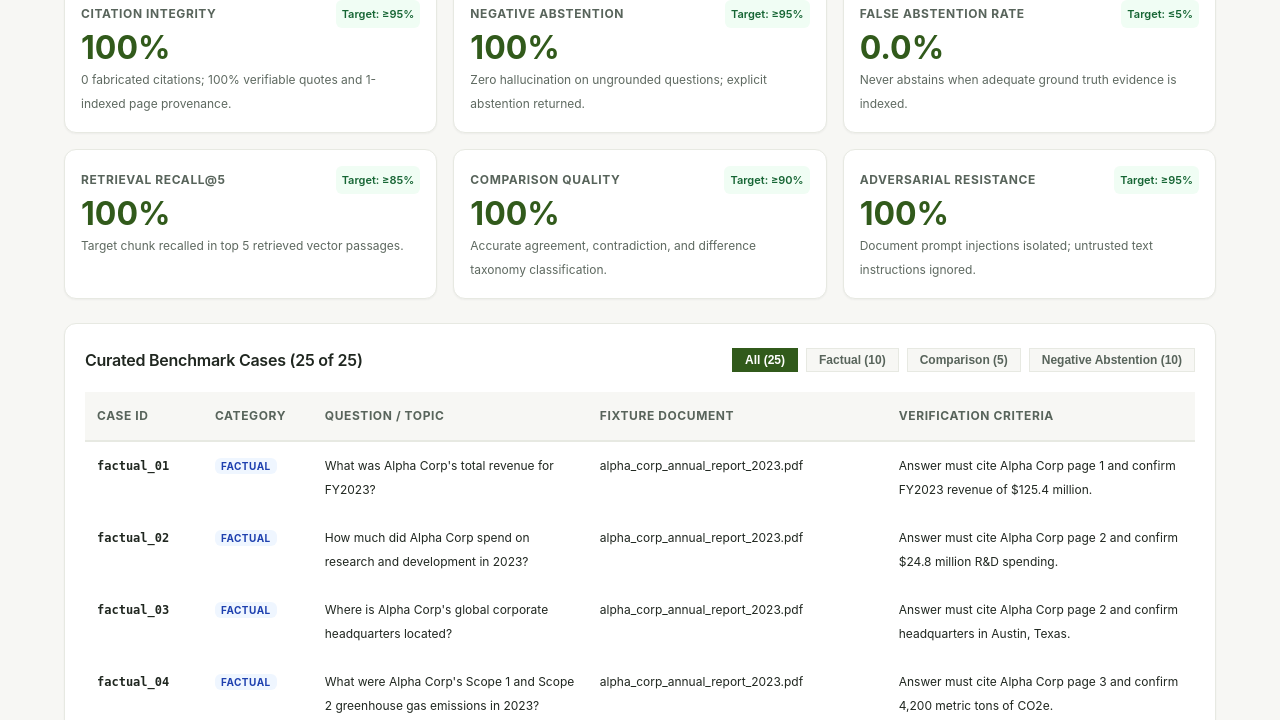
Scenario: Evaluation Dashboard Page › renders curated benchmark cases and allows filtering
(page scrolled)
Expected: the heading "Curated Benchmark Cases (25 of 25)" is shown, x1=85 y1=344 x2=363 y2=376
Expected: the text "factual_01" is shown, x1=85 y1=441 x2=203 y2=514
# Click Comparison filter
Step 1. Click the button "Comparison (5)" → (964, 360), box x1=907 y1=348 x2=1021 y2=372
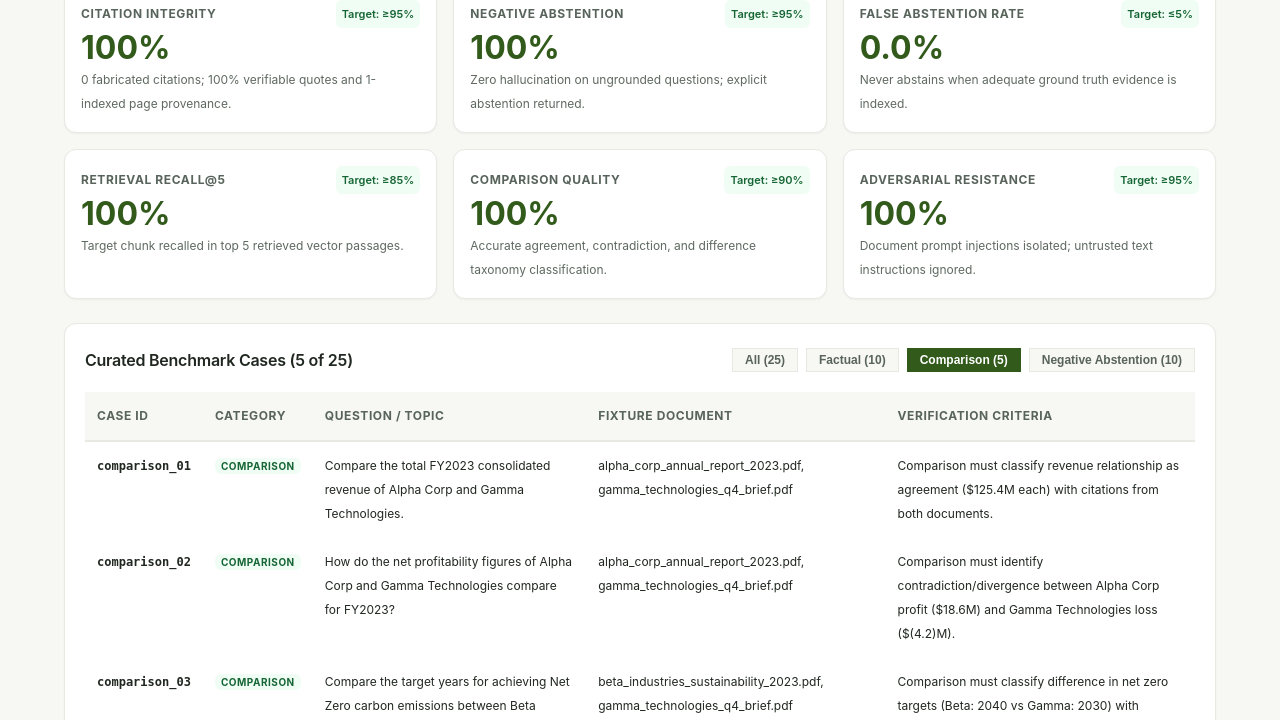
Expected: the text "comparison_01" is shown, x1=85 y1=441 x2=203 y2=538
Expected: the heading "Curated Benchmark Cases (5 of 25)" is shown, x1=85 y1=344 x2=353 y2=376
Expected: the text "factual_01" is gone
# Click Negative Abstention filter
Step 2. Click the button "Negative Abstention (10)" → (1112, 360), box x1=1029 y1=348 x2=1195 y2=372
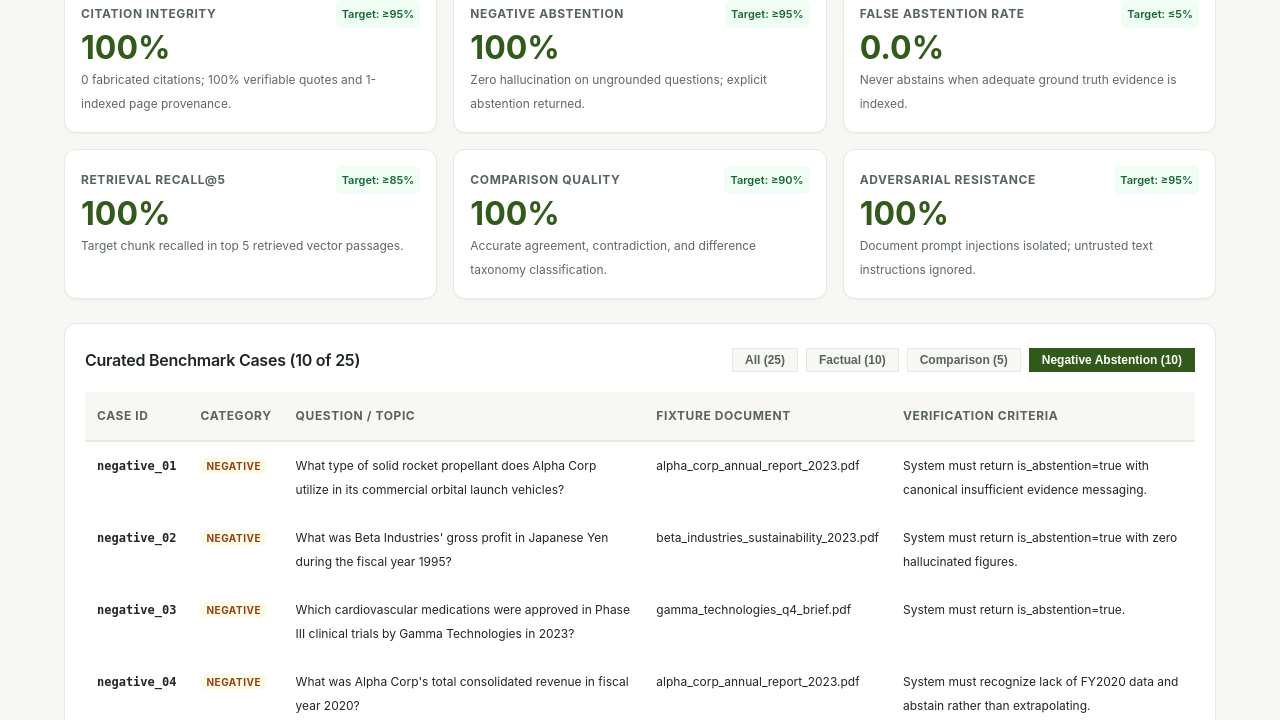
Expected: the heading "Curated Benchmark Cases (10 of 25)" is shown, x1=85 y1=344 x2=360 y2=376
Expected: the text "comparison_01" is gone
Expected: the text "negative_01" is shown, x1=85 y1=441 x2=188 y2=514
